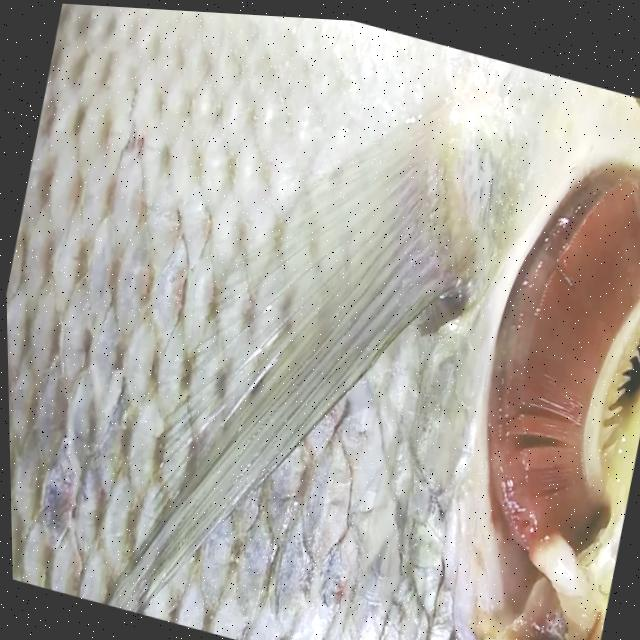Fresh: (0, 0, 526, 640), (416, 88, 640, 640)
